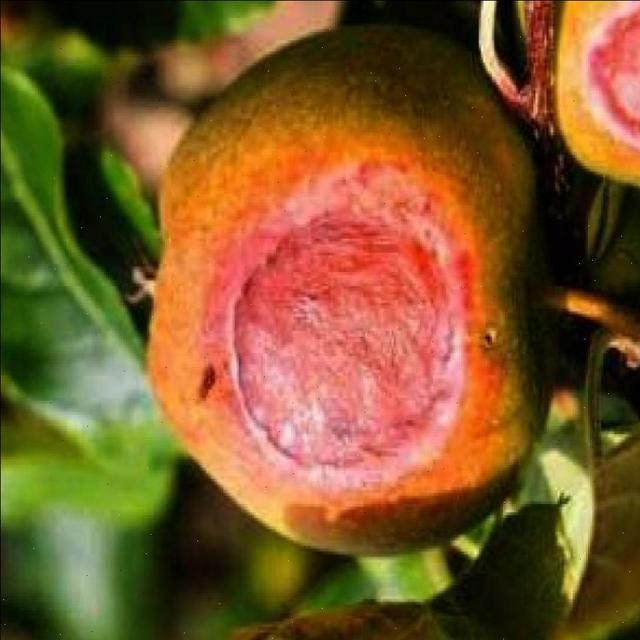Sunscald Fruit: (146, 106, 327, 337)
